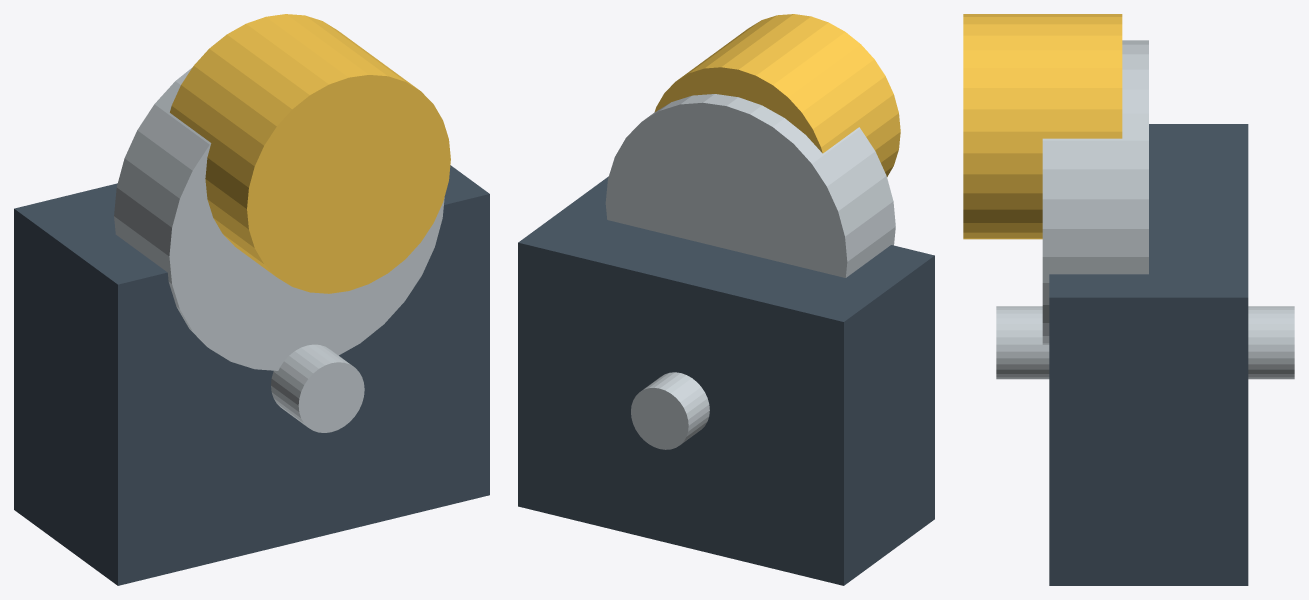
Rendered from pilot_amber.glb.
The picture shows the model from 3 angles, left to right: view 1: azimuth 30°, elevation 25°; view 2: azimuth 150°, elevation 25°; view 3: azimuth 270°, elevation 25°; orthographic projection. The views are drawn at different scales.
Parts seen in each view (by area): view 1: pilot_amber_0, pilot_amber_2, pilot_amber_1, pilot_amber_5; view 2: pilot_amber_0, pilot_amber_1, pilot_amber_2, pilot_amber_4; view 3: pilot_amber_0, pilot_amber_2, pilot_amber_1, pilot_amber_5, pilot_amber_4.
Part boxes in pixels (x1,y1,x2,y2): pilot_amber_0: [14, 165, 489, 585]; pilot_amber_2: [170, 14, 450, 293]; pilot_amber_1: [114, 67, 444, 370]; pilot_amber_5: [271, 344, 364, 432]; pilot_amber_0: [518, 176, 934, 585]; pilot_amber_1: [605, 94, 895, 277]; pilot_amber_2: [654, 14, 900, 176]; pilot_amber_4: [631, 372, 709, 449]; pilot_amber_0: [1049, 124, 1248, 585]; pilot_amber_2: [963, 14, 1122, 239]; pilot_amber_1: [1042, 40, 1148, 344]; pilot_amber_5: [996, 306, 1049, 379]; pilot_amber_4: [1248, 306, 1294, 379].
Bounding box in the file's own units: 0.62 × 0.79 × 0.5.
